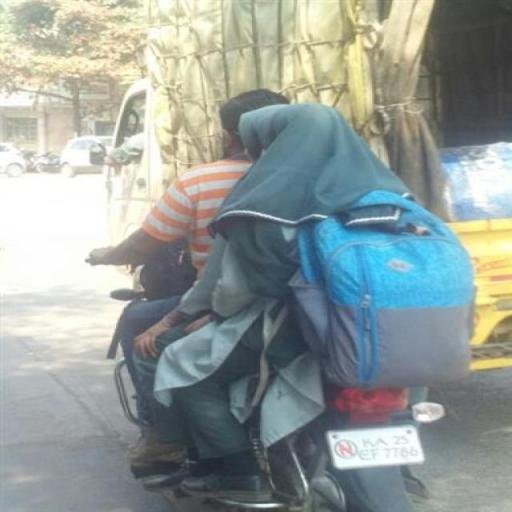tripple riding: (78, 82, 486, 384)
